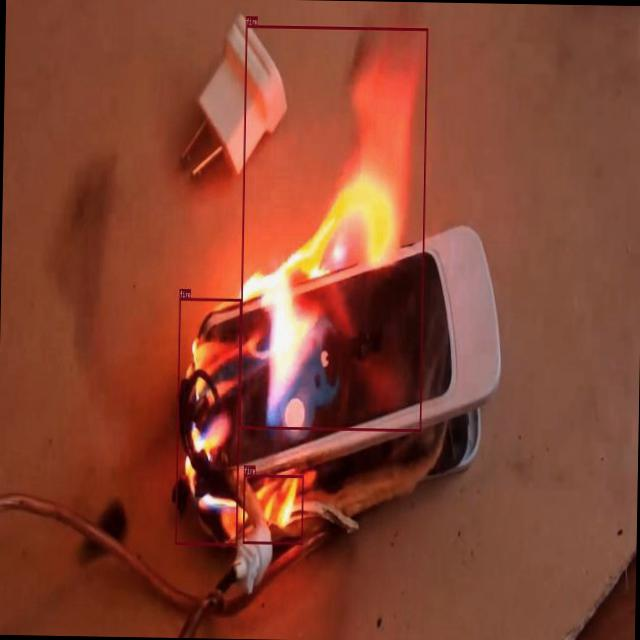fire: (238, 24, 426, 431), (174, 297, 240, 545), (242, 474, 303, 544)
